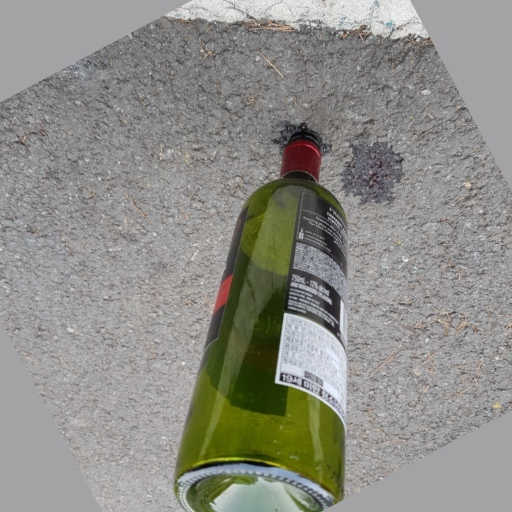Glass_2: (171, 131, 349, 512)
